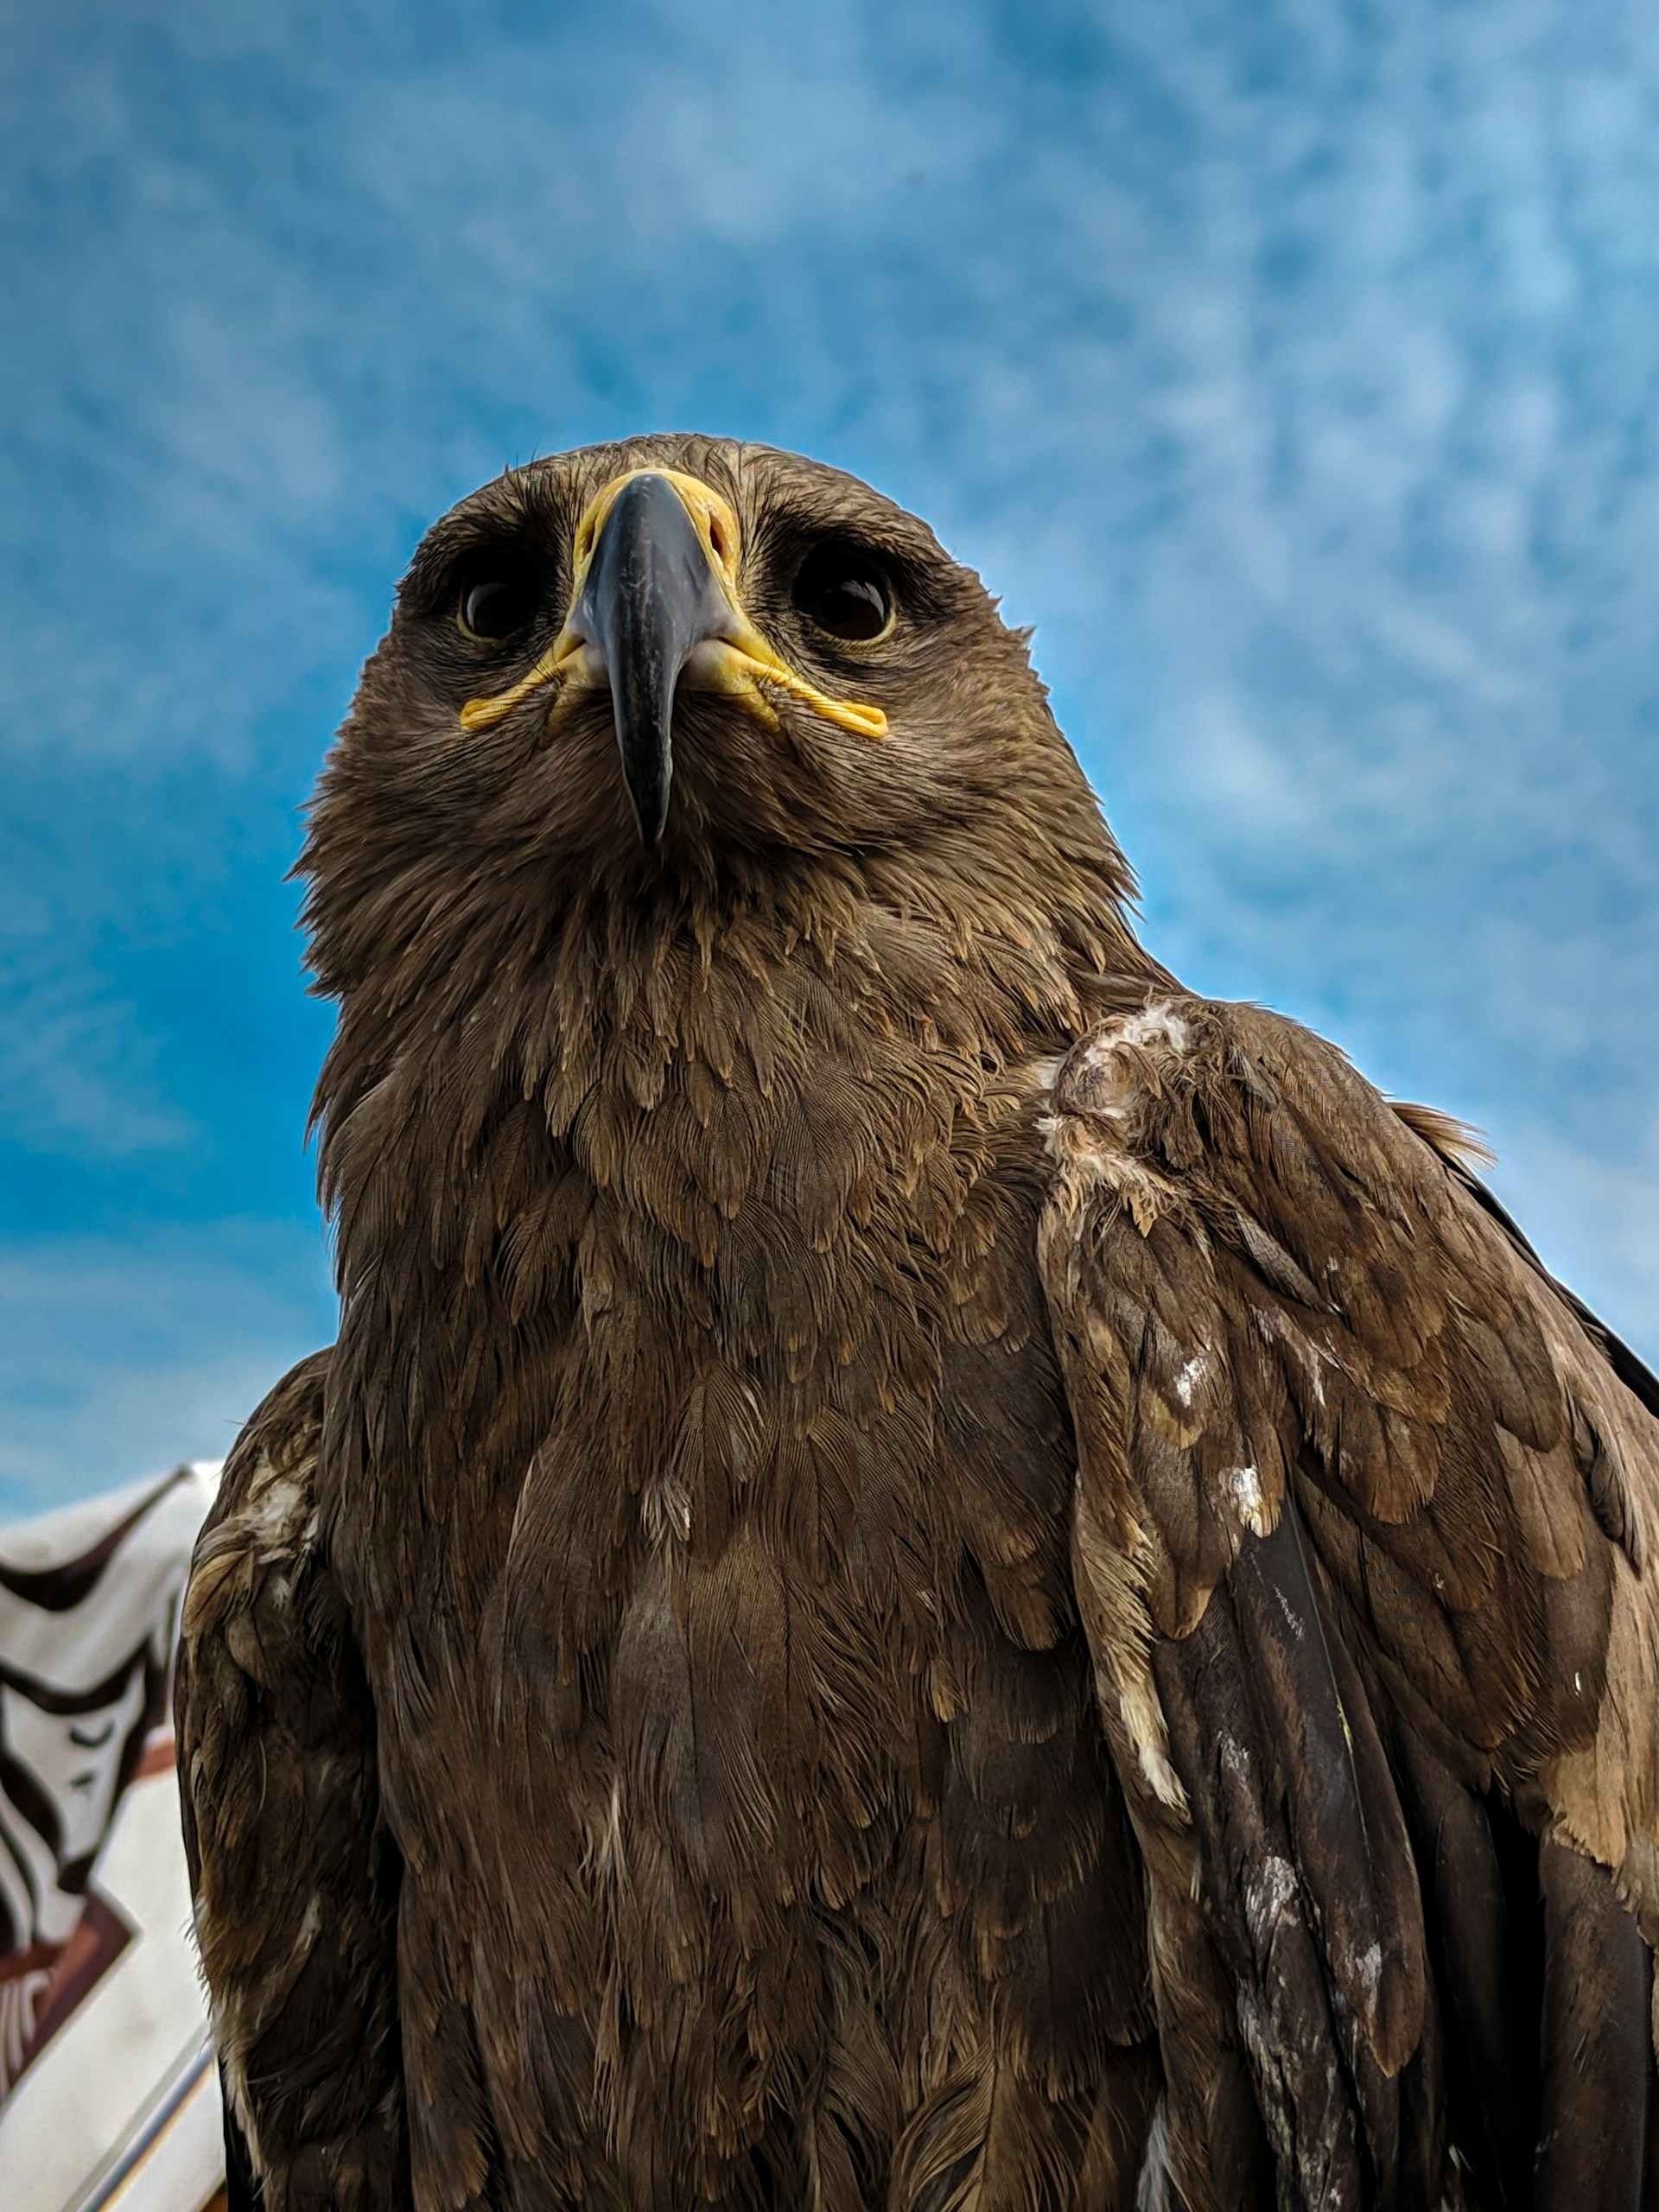eagle: (136, 425, 1659, 2212)
